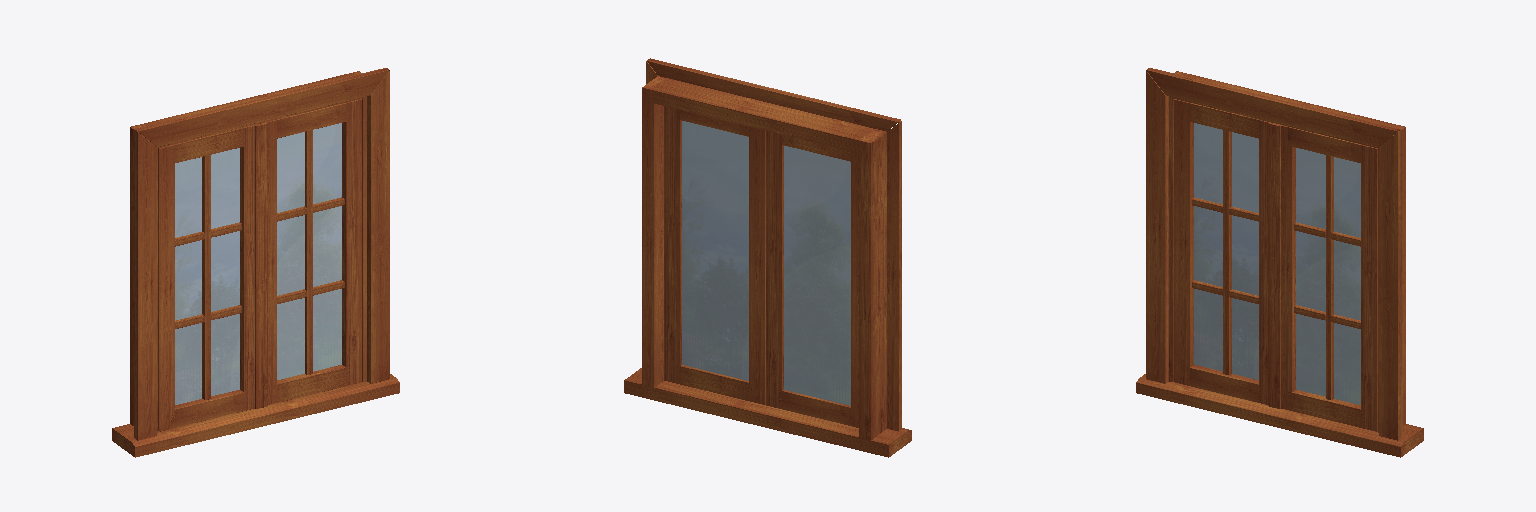
3 renders of one model, left to right at view 1: azimuth 30°, elevation 25°; view 2: azimuth 150°, elevation 25°; view 3: azimuth 330°, elevation 25°, orthographic.
Parts seen in each view (by area): view 1: glass002, glass001, trim_left, trim_right, box_bottom, trim_top, window_right002, window_left001, window_right001, astragal, window_left002, muttin_vertical001 (+8 smaller); view 2: glass001, glass002, box_left, box_right, box_bottom, box_top, window_right001, window_right002, window_left002, trim_left, trim_top, window_left001 (+4 smaller); view 3: glass002, glass001, trim_right, trim_left, box_bottom, trim_top, window_left001, window_right002, window_left002, astragal, window_right001, muttin_vertical001 (+8 smaller).
Part boxes in pixels (x1,y1,x2,y2): glass002: (277, 123, 341, 379); glass001: (175, 148, 239, 404); trim_left: (134, 129, 156, 440); trim_right: (367, 71, 389, 383); box_bottom: (112, 374, 399, 457); trim_top: (135, 68, 389, 146); window_right002: (342, 99, 361, 385); window_left001: (158, 145, 174, 431); window_right001: (240, 124, 258, 410); astragal: (255, 123, 267, 408); window_left002: (260, 120, 276, 404); muttin_vertical001: (202, 155, 210, 399); glass001: (784, 146, 850, 405); glass002: (682, 121, 748, 380); box_left: (859, 129, 886, 452); box_right: (642, 76, 668, 399); box_bottom: (624, 368, 911, 457); box_top: (650, 78, 873, 153); window_right001: (766, 131, 783, 408); window_right002: (664, 106, 681, 383); window_left002: (749, 127, 765, 404); trim_left: (887, 121, 901, 431); trim_top: (647, 58, 900, 131); window_left001: (851, 152, 858, 427); glass002: (1296, 148, 1360, 404); glass001: (1194, 123, 1258, 379); trim_right: (1379, 129, 1401, 440); trim_left: (1146, 71, 1168, 383); box_bottom: (1136, 374, 1423, 457); trim_top: (1146, 68, 1400, 146); window_left001: (1174, 99, 1193, 385); window_right002: (1361, 145, 1377, 431); window_left002: (1277, 124, 1295, 409); astragal: (1268, 123, 1280, 408); window_right001: (1259, 120, 1275, 404); muttin_vertical001: (1223, 130, 1231, 374).
Bounding box in the file's own units: 33.5 × 39 × 5.
Materials: 7 (7 with a texture image).